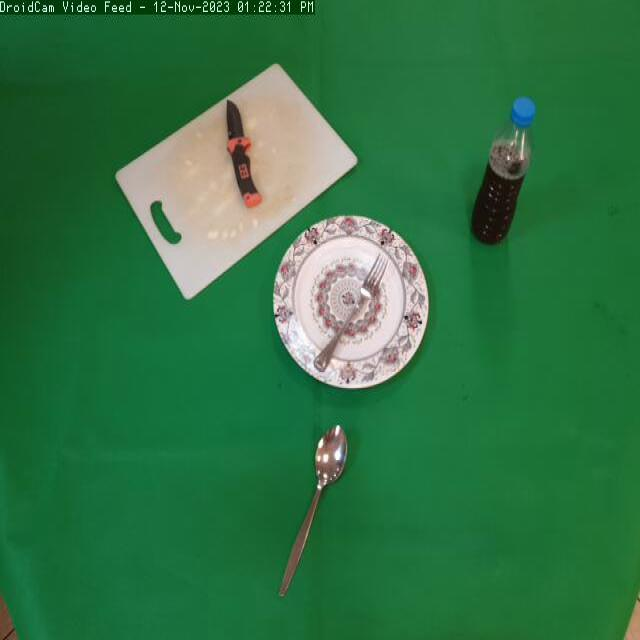cutting board: (114, 63, 368, 304)
fork: (314, 250, 396, 374)
fullbottle: (467, 90, 542, 262)
knife: (215, 100, 260, 210)
plate: (266, 212, 434, 405)
spoon: (266, 417, 358, 600)
